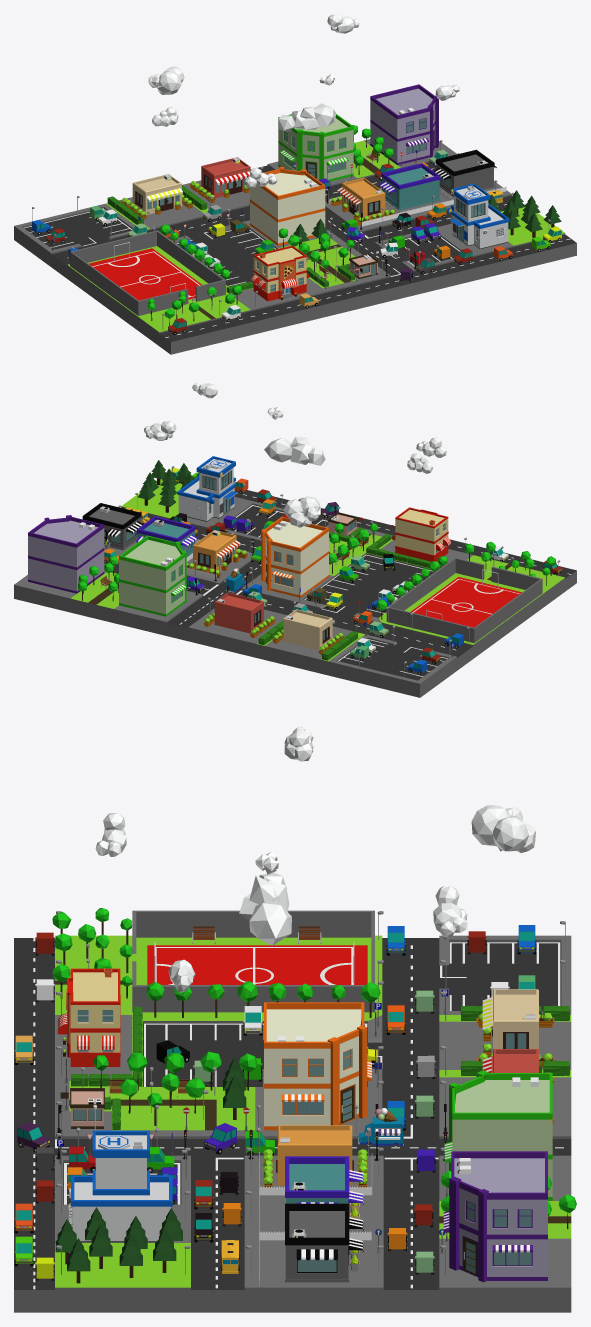
File: city-low.glb
3 views of the same model, one above another, from view 1: azimuth 30°, elevation 25°; view 2: azimuth 150°, elevation 25°; view 3: azimuth 270°, elevation 25° (orthographic). The views are drawn at different scales.
Visible parts, largest first — view 1: plane, tenda.006, Cube.002, vetro.016, Sphere.001, tenda.005, police station, pizzeria, base casa.002, base casa.003, Icosphere.008, vetro.017 (+12 smaller); view 2: plane, tenda.006, Cube.002, tenda.005, vetro.016, Sphere.001, police station, pizzeria, vetro.017, Icosphere.008, casa.006, base casa.003 (+11 smaller); view 3: plane, vetro.016, tenda.006, Cube.002, Sphere.001, tenda.005, police station, base casa.003, pizzeria, road lines, Cube.001, Icosphere.008 (+13 smaller).
Part boxes in pixels (box(x1,y1,x2,y2)): plane: box(14, 139, 576, 354); tenda.006: box(370, 84, 438, 165); Cube.002: box(70, 230, 225, 315); vetro.016: box(250, 166, 325, 245); Sphere.001: box(148, 14, 459, 188); tenda.005: box(278, 114, 353, 181); police station: box(447, 183, 509, 248); pizzeria: box(250, 245, 309, 301); base casa.002: box(379, 163, 441, 210); base casa.003: box(433, 149, 496, 196); Icosphere.008: box(121, 174, 192, 219); vetro.017: box(189, 157, 250, 202); plane: box(14, 478, 576, 697); tenda.006: box(28, 515, 104, 593); Cube.002: box(386, 557, 542, 642); tenda.005: box(119, 535, 186, 616); vetro.016: box(261, 516, 328, 597); Sphere.001: box(144, 383, 446, 527); police station: box(177, 456, 237, 521); pizzeria: box(392, 507, 451, 561); vetro.017: box(204, 592, 275, 637); Icosphere.008: box(272, 609, 344, 654); casa.006: box(186, 530, 247, 578); base casa.003: box(82, 503, 143, 550); plane: box(14, 935, 571, 1312); vetro.016: box(264, 1002, 371, 1130); tenda.006: box(443, 1151, 547, 1282); Cube.002: box(132, 910, 374, 1012); Sphere.001: box(95, 726, 535, 992); tenda.005: box(444, 1070, 552, 1200); police station: box(68, 1129, 172, 1242); base casa.003: box(285, 1203, 363, 1282); pizzeria: box(57, 968, 120, 1066); road lines: box(33, 938, 563, 1289); Cube.001: box(55, 1207, 182, 1283); Icosphere.008: box(476, 989, 554, 1067).
Bounding box in the file's own units: 12845 × 5470 × 8681.
Materials: 7 (4 with a texture image).
